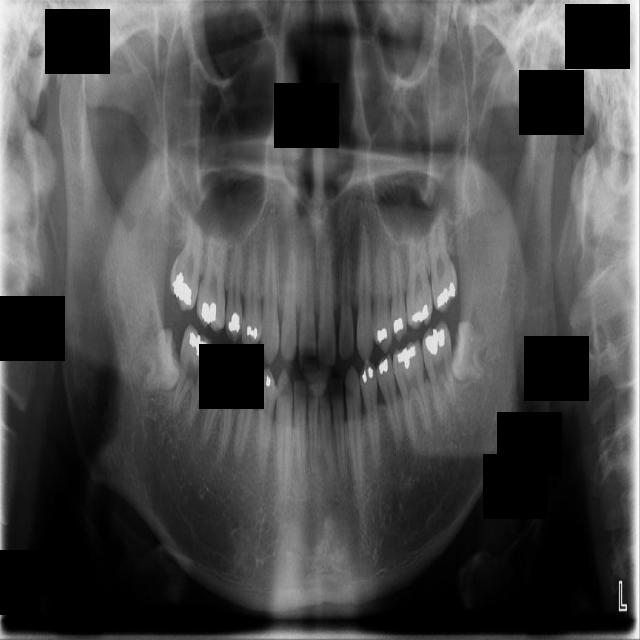52: (205, 347, 248, 409), (385, 338, 434, 391), (178, 327, 216, 387), (417, 320, 457, 375), (165, 259, 203, 314), (194, 281, 229, 335), (430, 259, 459, 315), (254, 368, 282, 422), (406, 279, 433, 330), (356, 358, 383, 409), (223, 296, 246, 344), (372, 302, 392, 353), (239, 312, 263, 353), (387, 303, 410, 344), (374, 354, 397, 394), (241, 365, 262, 408)
73: (593, 572, 594, 592)
BioHorizons Implant: (425, 208, 460, 315)
Biomet 3i Implant: (450, 320, 489, 382)
Blue Sky Bio Implant: (419, 320, 460, 426)
Caries: (165, 215, 208, 314)
Implant: (169, 325, 217, 428)
Keystone Dental Implant: (132, 327, 185, 396)
